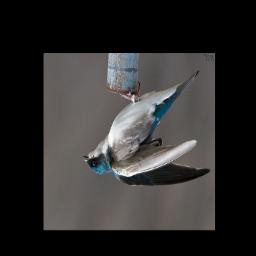Swallow: (81, 68, 212, 189)
